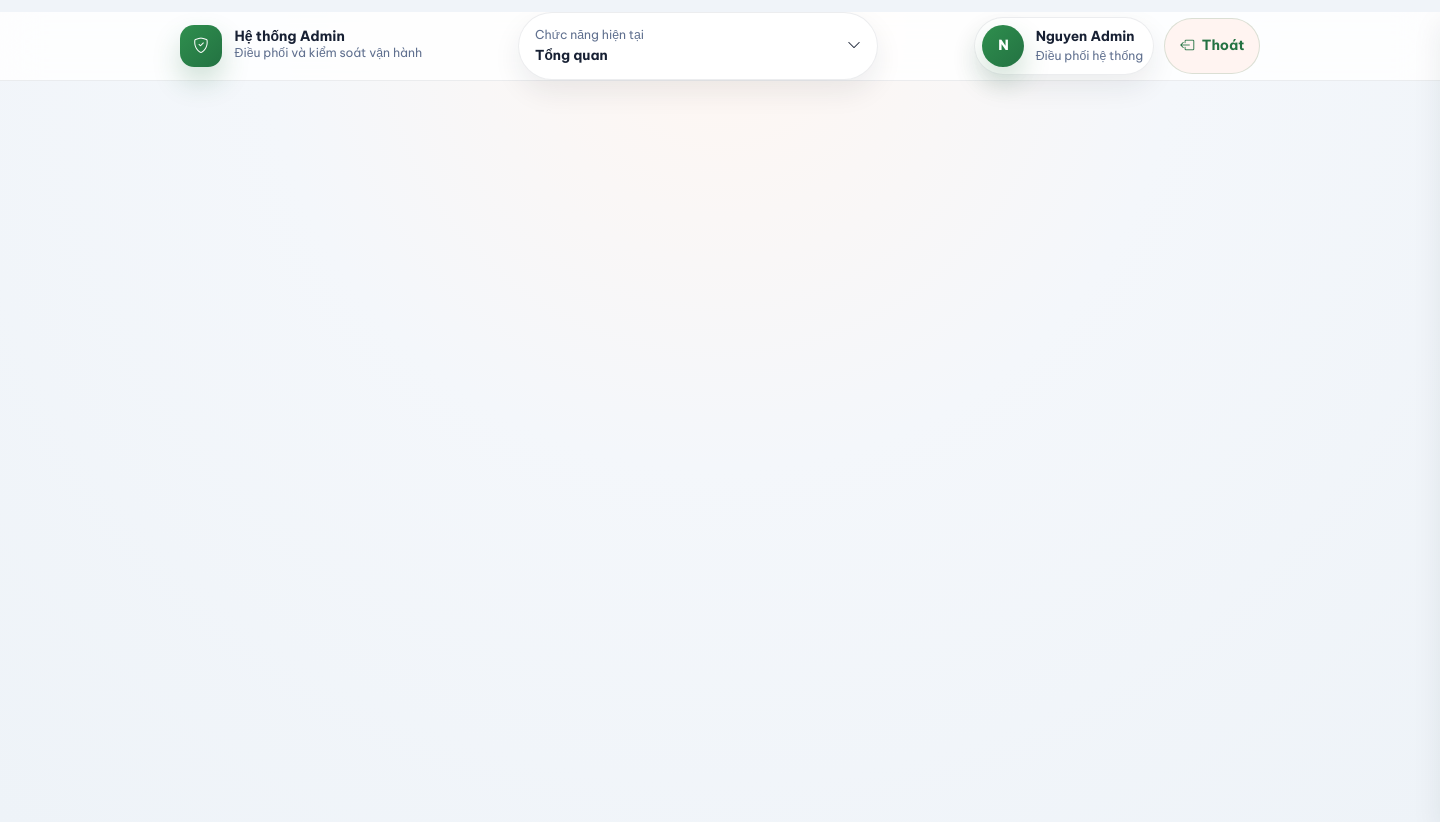
Test: AdminLayout › shows grouped admin navigation in Vietnamese
The image size is (1440, 822).
Step 1. Click the button "Chức năng hiện tại Tổng quan" → (590, 35), box [518,12,878,80]
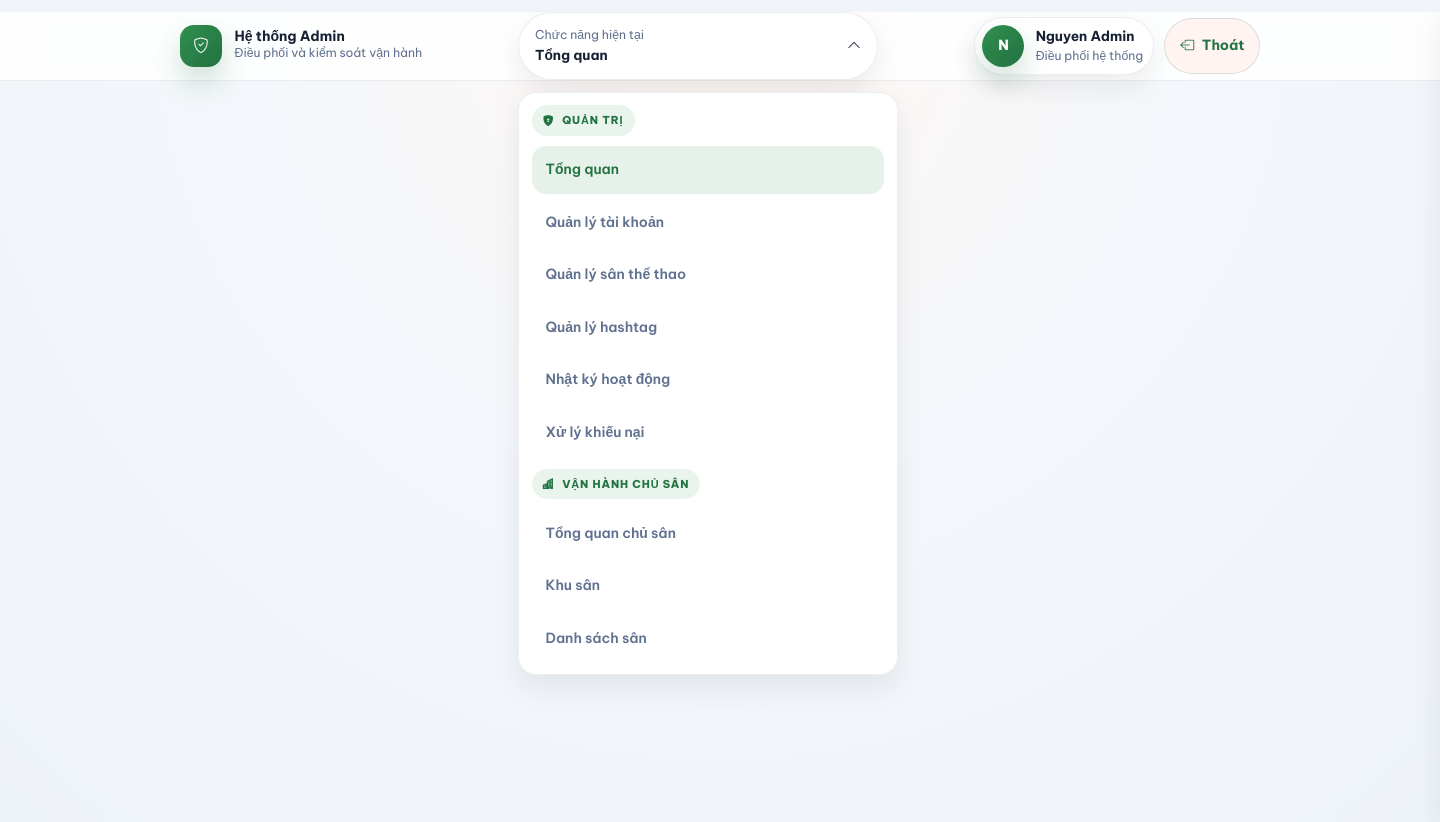
Check: the text "Quản trị" is shown, box [562,112,624,128]
Check: the link "Quản lý tài khoản" is shown, box [546,213,664,231]
Check: the link "Xử lý khiếu nại" is shown, box [546,423,645,441]
